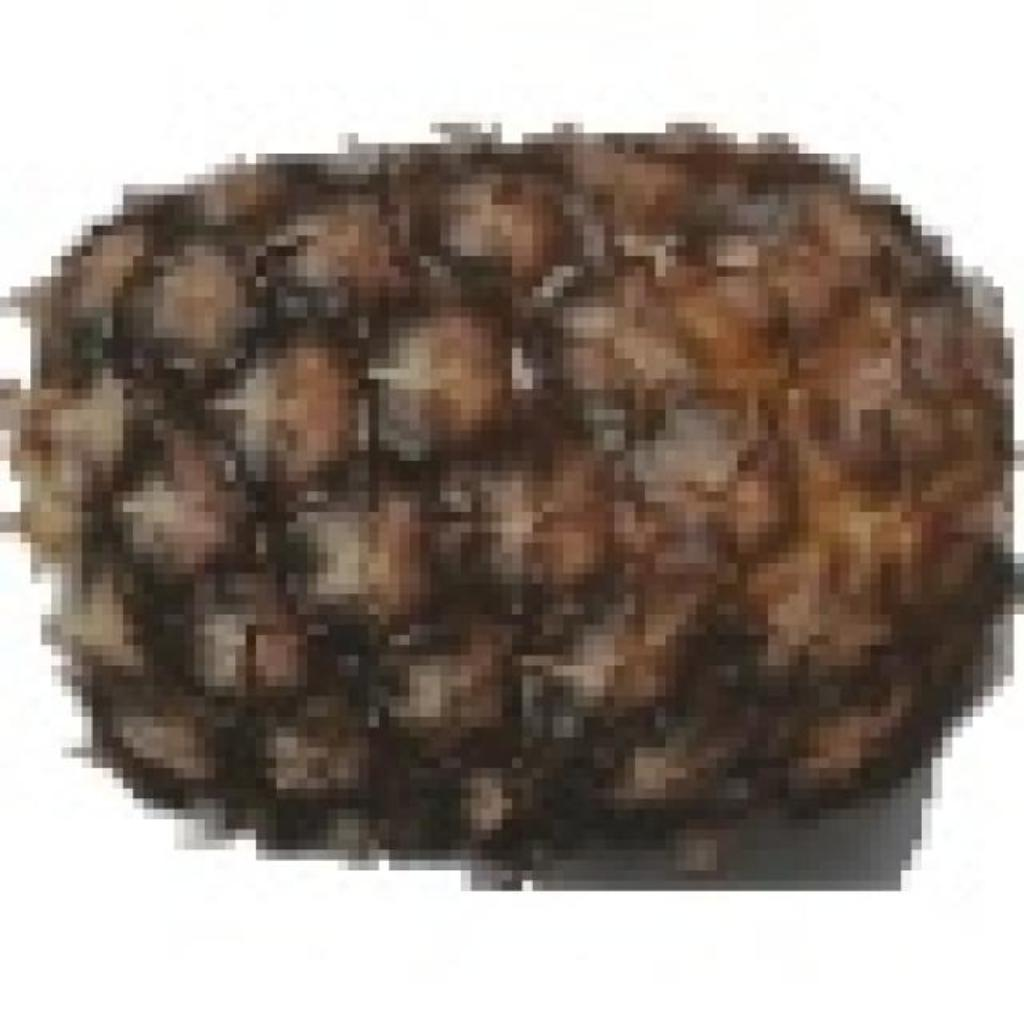pineapple: (10, 113, 993, 840)
